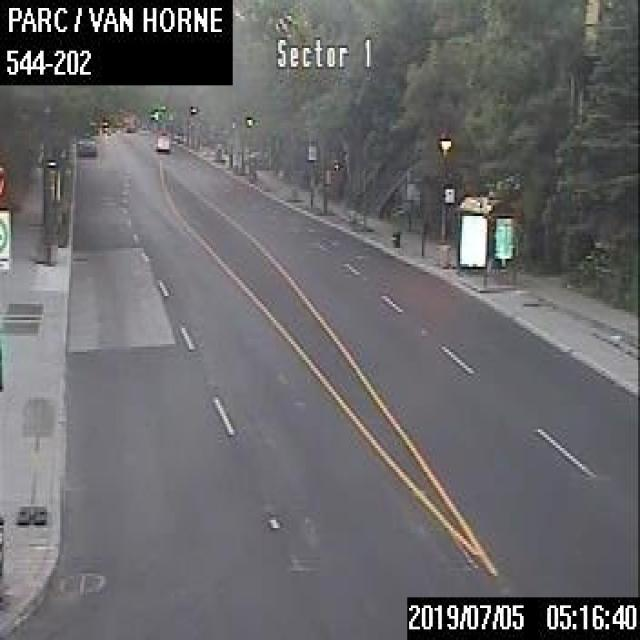vehicle: (75, 131, 95, 154), (155, 128, 169, 151)
